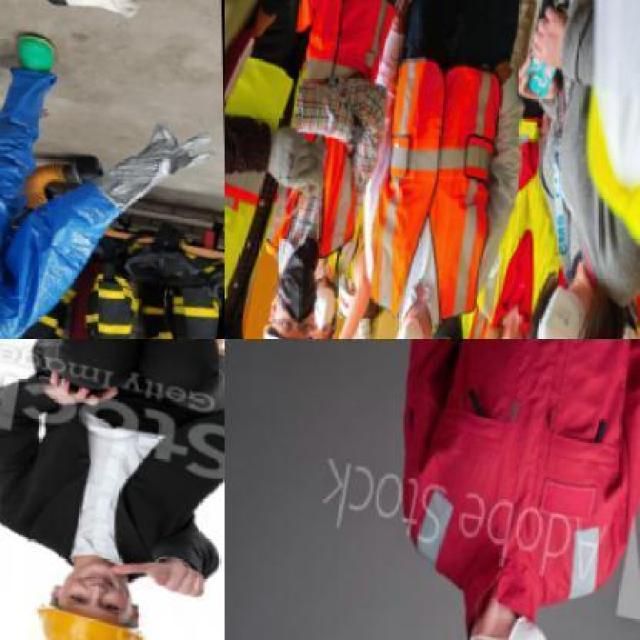jacket: (367, 54, 497, 324)
